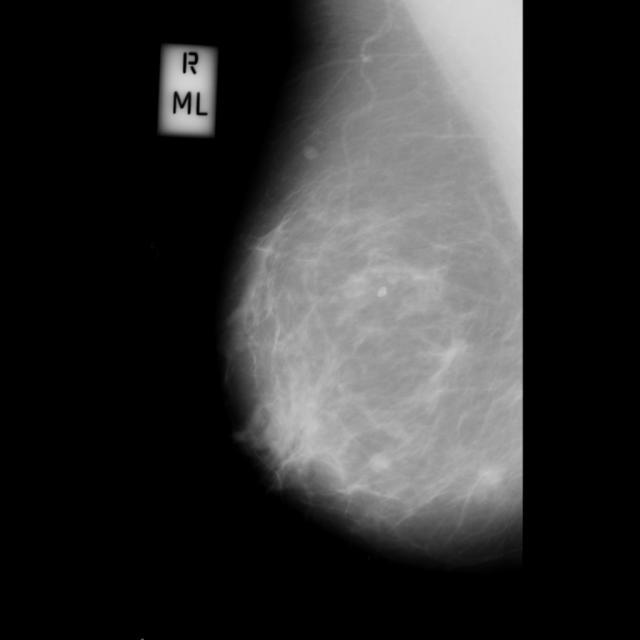MISC: (478, 463, 503, 488)
